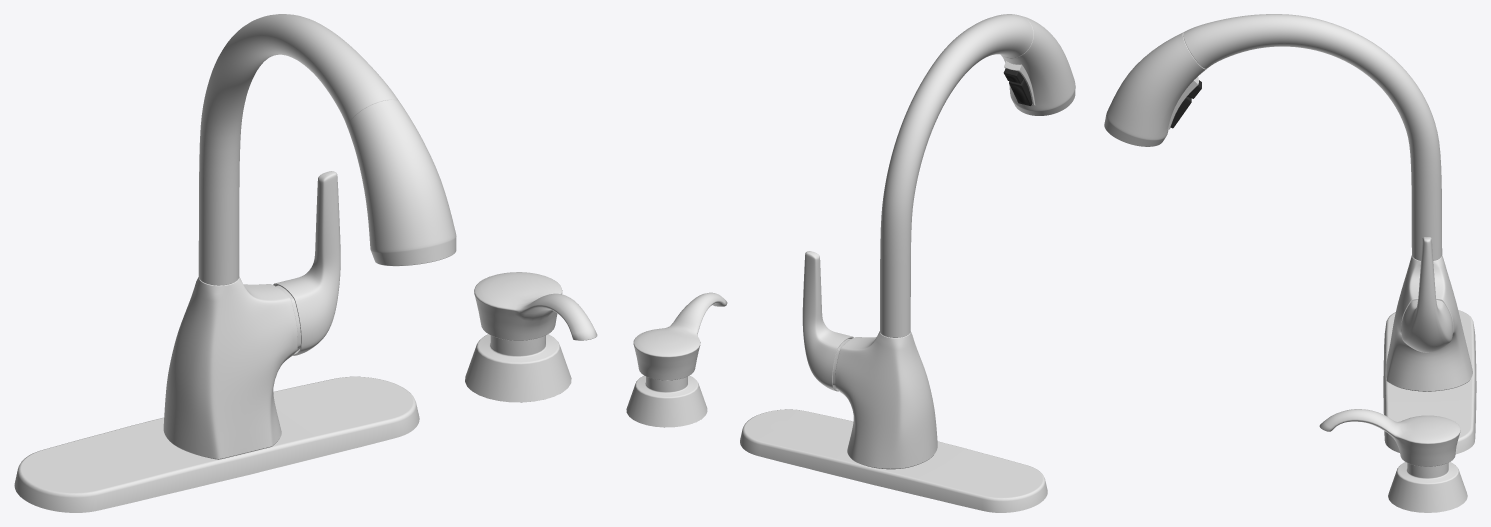
File: single_handle_flared.glb
The picture shows the model from 3 angles, left to right: view 1: azimuth 30°, elevation 25°; view 2: azimuth 150°, elevation 25°; view 3: azimuth 270°, elevation 25°; orthographic projection. The views are drawn at different scales.
Parts seen in each view (by area): view 1: Faucet; view 2: Faucet; view 3: Faucet.
Boxes of the visible parts, box(x1,y1,x2,y2) form: Faucet: box(14, 14, 597, 512); Faucet: box(626, 14, 1075, 512); Faucet: box(1104, 14, 1476, 512).
Bounding box in the file's own units: 0.3949 × 0.3481 × 0.3162.
1 material, 1 textured.
